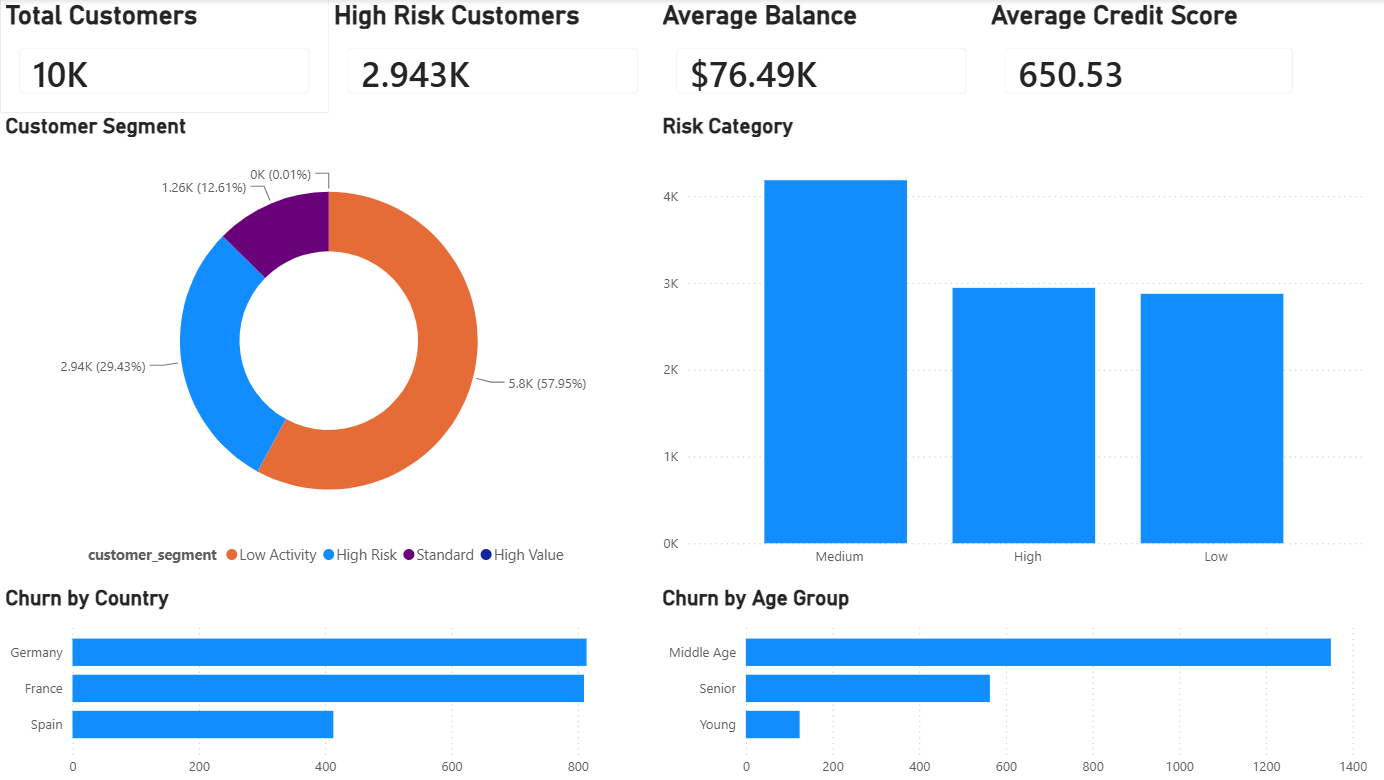

The page's visual inventory and layout, read from the dashboard file:
{"tool":"powerbi","page":{"name":"Overview","canvas":[1280,720],"ordinal":0},"visuals":[{"type":"cardVisual","title":"Total Customers","fields":{"Data":["CountNonNull(customer_risk.customer_id)"]},"box":[0,0,300.5,103.9],"z":0},{"type":"cardVisual","title":"High Risk Customers","fields":{"Data":["CountNonNull(customer_risk.customer_id)"]},"box":[300.5,0,300.5,103.9],"z":1000},{"type":"cardVisual","title":"Average Balance","fields":{"Data":["Avg(customer_risk.balance)"]},"box":[600.9,0,300.5,103.9],"z":2000},{"type":"cardVisual","title":"Average Credit Score","fields":{"Data":["Avg(customer_risk.credit_score)"]},"box":[901.4,0,298.6,103.9],"z":3000},{"type":"donutChart","title":"Customer Segment","fields":{"Category":["customer_risk.customer_segment"],"Y":["CountNonNull(customer_risk.customer_id)"]},"box":[0,103.9,600.9,423.3],"z":4000},{"type":"clusteredColumnChart","title":"Risk Category","fields":{"Category":["customer_risk.risk_category"],"Y":["CountNonNull(customer_risk.customer_id)"]},"box":[600.9,103.9,653.9,423.3],"z":5000},{"type":"clusteredBarChart","title":"Churn by Country","fields":{"Category":["customer_risk.country"],"Y":["Sum(customer_risk.churned)"]},"box":[0,537,601,183],"z":6000},{"type":"clusteredBarChart","title":"Churn by Age Group","fields":{"Y":["Sum(customer_risk.churned)"],"Category":["customer_risk.age_group"]},"box":[601,537,654,183],"z":7000}]}

Visuals, with their boxes in screenshot pixels (x1, y1, x2, y2), scaled from the page's 1280x720 canvas onto the 1384x780 screenshot:
"Total Customers" cardVisual: 0 0 325 113
"High Risk Customers" cardVisual: 325 0 650 113
"Average Balance" cardVisual: 650 0 975 113
"Average Credit Score" cardVisual: 975 0 1298 113
"Customer Segment" donutChart: 0 113 650 571
"Risk Category" clusteredColumnChart: 650 113 1357 571
"Churn by Country" clusteredBarChart: 0 582 650 779
"Churn by Age Group" clusteredBarChart: 650 582 1357 779
